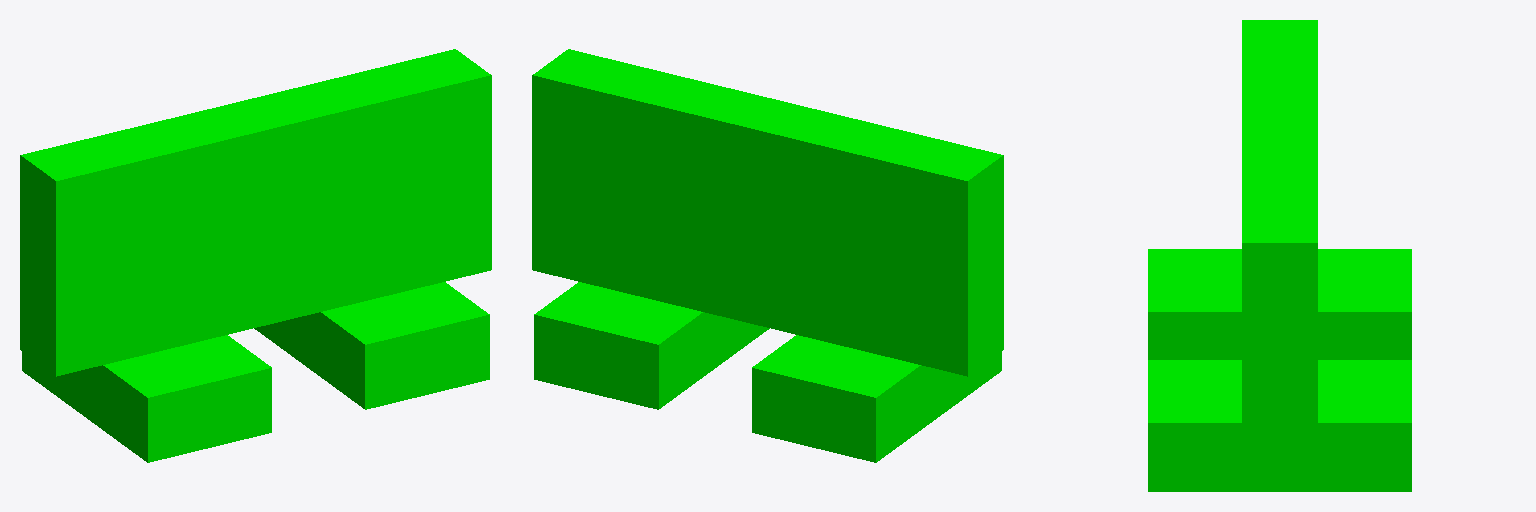
robot.urdf — robot:
<robot name = "robot">
    <link name="root">
        <inertial>
            <origin xyz="0.0 0.0 1.5" rpy="0 0 0"/>
            <mass value="1" />
            <inertia ixx="100" ixy="0" ixz="0" iyy="100" iyz="0" izz="100" />
        </inertial>
        <visual>
            <origin xyz="0.0 0.0 1.5" rpy="0 0 0"/>
            <geometry>
                <box size="0 0 0.0001" />
            </geometry>
            <material name="Green">
                <color rgba="0 1.0 0.0 1.0"/>
            </material>
        </visual>
        <collision>
            <origin xyz="0.0 0.0 1.5" rpy="0 0 0"/>
            <geometry>
                <box size="0 0 0.0001" />
            </geometry>
        </collision>
    </link>
    <joint name="root_000" type="revolute">
       <parent link="root"/>
       <child  link="000"/>
       <origin rpy="0 0 0" xyz="0.0 0.0 1.5" />
     <axis xyz="1 0 0"/>
       <limit effort="0.0" lower="-3.14159" upper="3.14159" velocity="0.0"/>
    </joint>
    <link name="000">
        <inertial>
            <origin xyz="0.35 0.0 0.0" rpy="0 0 0"/>
            <mass value="1" />
            <inertia ixx="100" ixy="0" ixz="0" iyy="100" iyz="0" izz="100" />
        </inertial>
        <visual>
            <origin xyz="0.35 0.0 0.0" rpy="0 0 0"/>
            <geometry>
                <box size="0.7 0.2 0.6" />
            </geometry>
            <material name="Green">
                <color rgba="0 1.0 0.0 1.0"/>
            </material>
        </visual>
        <collision>
            <origin xyz="0.35 0.0 0.0" rpy="0 0 0"/>
            <geometry>
                <box size="0.7 0.2 0.6" />
            </geometry>
        </collision>
    </link>
    <joint name="000_010" type="revolute">
       <parent link="000"/>
       <child  link="010"/>
       <origin rpy="0 0 0" xyz="0.7 0.0 -0.0" />
     <axis xyz="1 0 0"/>
       <limit effort="0.0" lower="-3.14159" upper="3.14159" velocity="0.0"/>
    </joint>
    <link name="010">
        <inertial>
            <origin xyz="0.35 0.0 -0.0" rpy="0 0 0"/>
            <mass value="1" />
            <inertia ixx="100" ixy="0" ixz="0" iyy="100" iyz="0" izz="100" />
        </inertial>
        <visual>
            <origin xyz="0.35 0.0 -0.0" rpy="0 0 0"/>
            <geometry>
                <box size="0.7 0.2 0.6" />
            </geometry>
            <material name="Green">
                <color rgba="0 1.0 0.0 1.0"/>
            </material>
        </visual>
        <collision>
            <origin xyz="0.35 0.0 -0.0" rpy="0 0 0"/>
            <geometry>
                <box size="0.7 0.2 0.6" />
            </geometry>
        </collision>
    </link>
    <joint name="010_010-100" type="revolute">
       <parent link="010"/>
       <child  link="010-100"/>
       <origin rpy="0 0 0" xyz="0.35 0.0 -0.3" />
     <axis xyz="0 0 1"/>
       <limit effort="0.0" lower="-3.14159" upper="3.14159" velocity="0.0"/>
    </joint>
    <link name="010-100">
        <inertial>
            <origin xyz="0.0 0.0 -0.1" rpy="0 0 0"/>
            <mass value="1" />
            <inertia ixx="100" ixy="0" ixz="0" iyy="100" iyz="0" izz="100" />
        </inertial>
        <visual>
            <origin xyz="0.0 0.0 -0.1" rpy="0 0 0"/>
            <geometry>
                <box size="0.4 0.7 0.2" />
            </geometry>
            <material name="Green">
                <color rgba="0 1.0 0.0 1.0"/>
            </material>
        </visual>
        <collision>
            <origin xyz="0.0 0.0 -0.1" rpy="0 0 0"/>
            <geometry>
                <box size="0.4 0.7 0.2" />
            </geometry>
        </collision>
    </link>
    <joint name="000_000-100" type="revolute">
       <parent link="000"/>
       <child  link="000-100"/>
       <origin rpy="0 0 0" xyz="0.35 0.0 -0.3" />
     <axis xyz="0 0 1"/>
       <limit effort="0.0" lower="-3.14159" upper="3.14159" velocity="0.0"/>
    </joint>
    <link name="000-100">
        <inertial>
            <origin xyz="0.0 0.0 -0.1" rpy="0 0 0"/>
            <mass value="1" />
            <inertia ixx="100" ixy="0" ixz="0" iyy="100" iyz="0" izz="100" />
        </inertial>
        <visual>
            <origin xyz="0.0 0.0 -0.1" rpy="0 0 0"/>
            <geometry>
                <box size="0.4 0.7 0.2" />
            </geometry>
            <material name="Green">
                <color rgba="0 1.0 0.0 1.0"/>
            </material>
        </visual>
        <collision>
            <origin xyz="0.0 0.0 -0.1" rpy="0 0 0"/>
            <geometry>
                <box size="0.4 0.7 0.2" />
            </geometry>
        </collision>
    </link>
</robot>

--- Facts derived from the render (not from the file) ---
3 views of the same robot in one strip: view 1: azimuth 30°, elevation 25°; view 2: azimuth 150°, elevation 25°; view 3: azimuth 270°, elevation 25° (orthographic).
Robot: robot — 5 links, 4 joints (4 revolute); root link root; default pose: all joints at 0.
Visible links, largest first — view 1: 000, 010, 000-100, 010-100; view 2: 000, 010, 000-100, 010-100; view 3: 010-100, 010, 000-100, 000.
Boxes of the visible links, x1,y1,x2,y2 form: 000: (20, 102, 273, 376); 010: (239, 49, 491, 322); 000-100: (22, 335, 271, 462); 010-100: (254, 282, 489, 409); 000: (750, 102, 1003, 376); 010: (532, 49, 784, 322); 000-100: (752, 335, 1001, 462); 010-100: (534, 282, 769, 409); 010-100: (1148, 360, 1411, 491); 010: (1242, 132, 1317, 446); 000-100: (1148, 249, 1411, 359); 000: (1242, 20, 1317, 131).
Bounding box of the posed robot: 1.4 × 0.7 × 0.8 m (x, y, z).
Geometry: primitives only (box / cylinder / sphere), no mesh files.